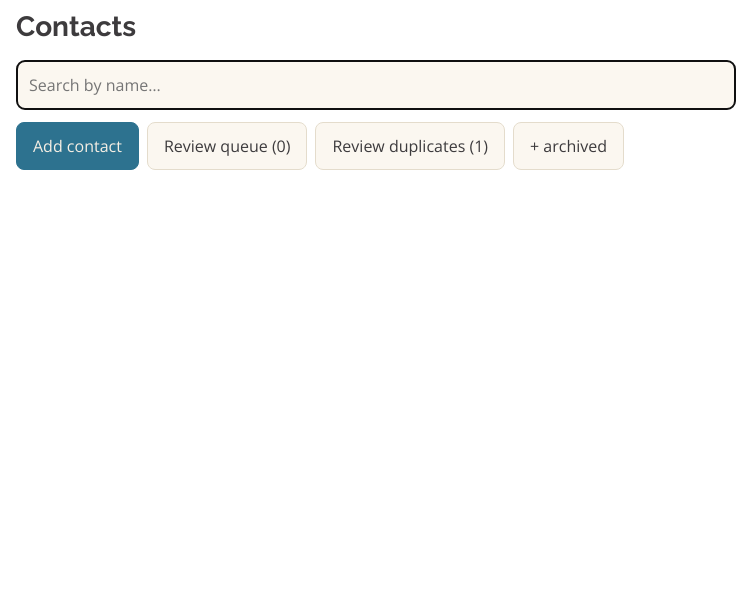
revealing rejections works wherever pairs are shown › offers the control beside search results, and scopes it to the query
Type "Jones" into the field with placeholder "Search by name…".
click(376, 85); type("Jones")  # box [16,60,736,110]
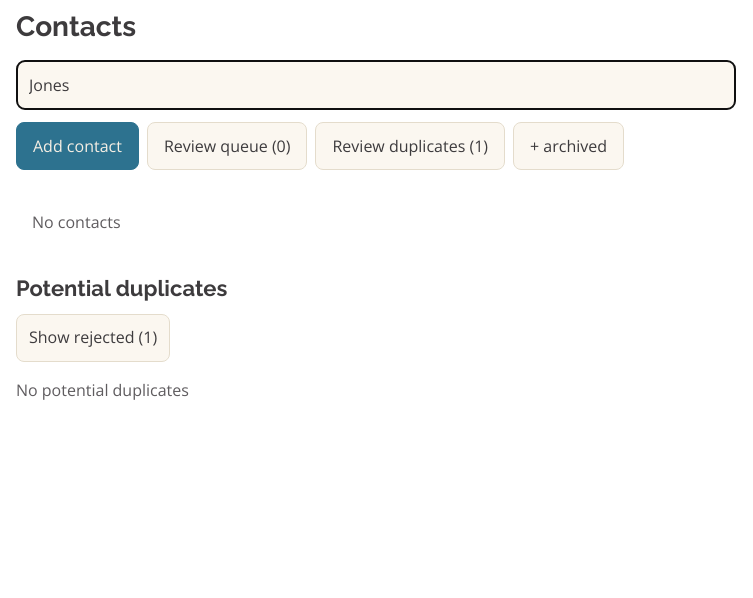
Expected: the heading "Potential duplicates" is shown, [16,275,227,301]
Click the button "Show rejected (1)".
click(93, 338)  # box [16,314,170,362]
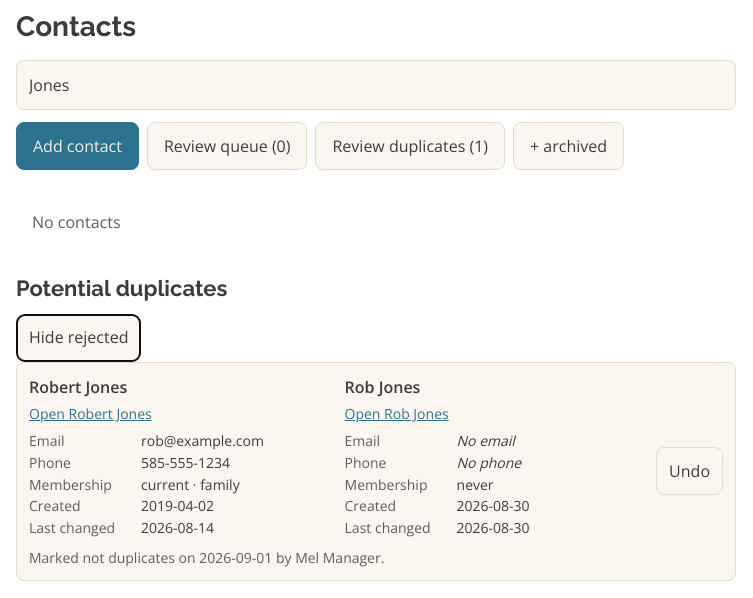
Expected: the text "Rob Jones" is shown, [344,376,420,398]
